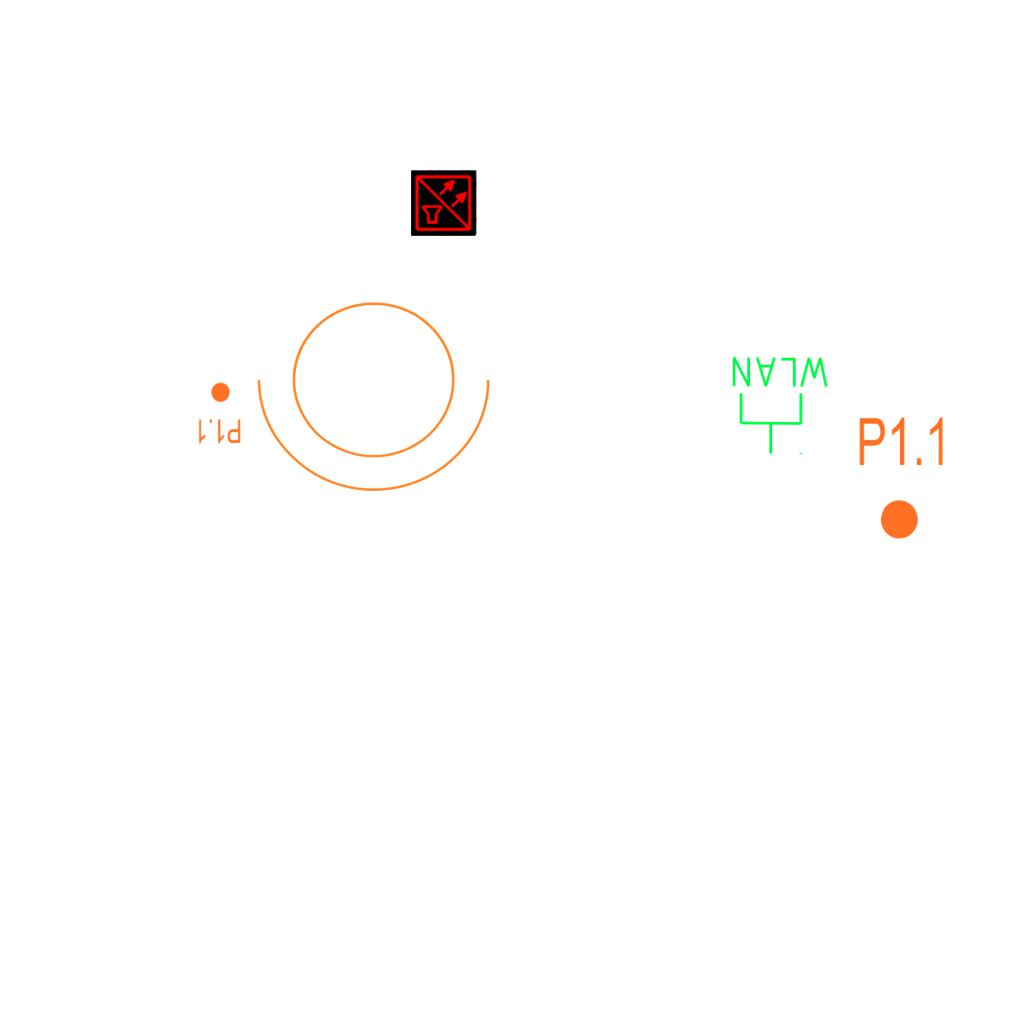Downlight_LED_Einbauleuchten_Flur: (856, 414, 949, 542), (196, 381, 242, 445)
OKW_Multisensormelder_(Kombination_optischer_Rauch-Kahlenmonoxid_Waerme-Melder): (411, 170, 477, 236)
Scheinwerfer_fuer_Alarmbeleuchtung: (248, 277, 512, 502)
WLAN: (728, 353, 833, 457)
